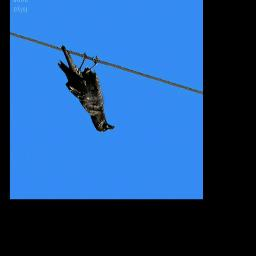Crow: (57, 45, 117, 134)
